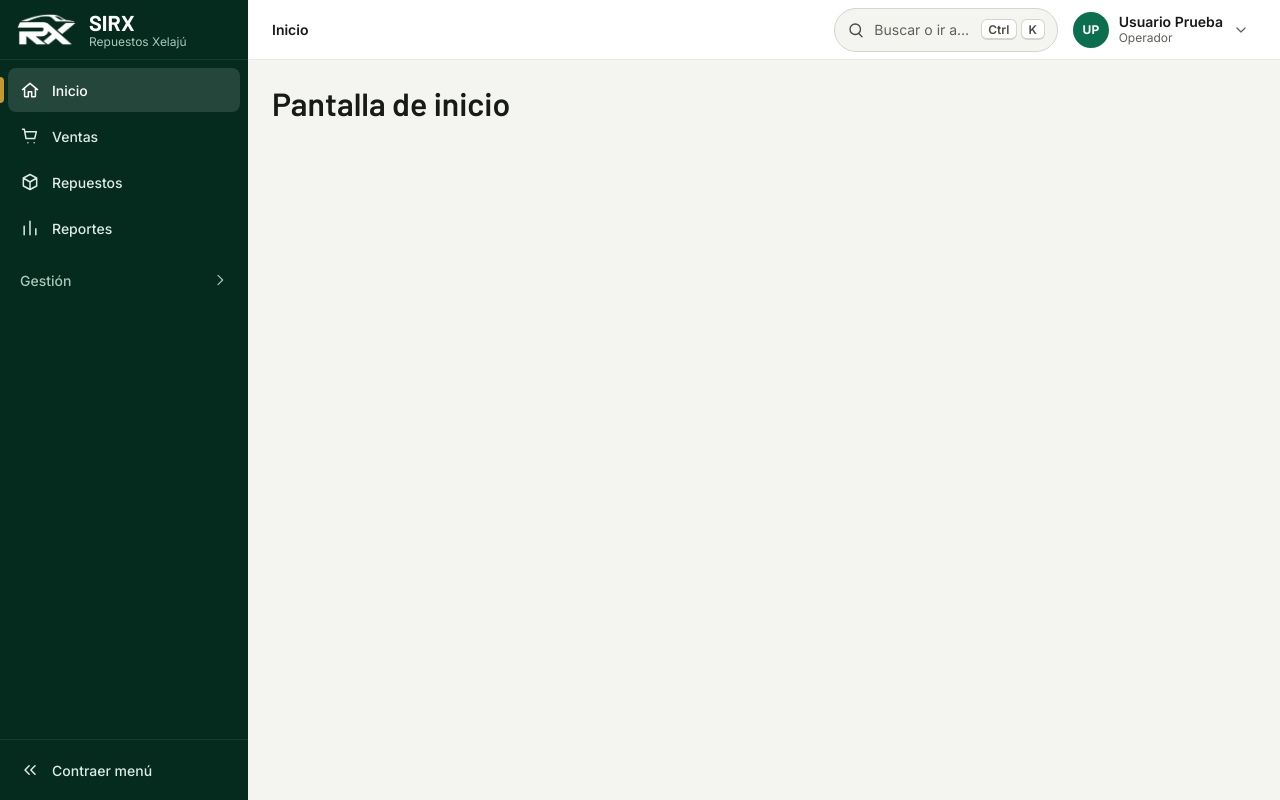
Test: AppLayout › la paleta encuentra repuestos por SKU o nombre
This screenshot has width=1280, height=800.
Type keys "{Control>}k{/Control}"
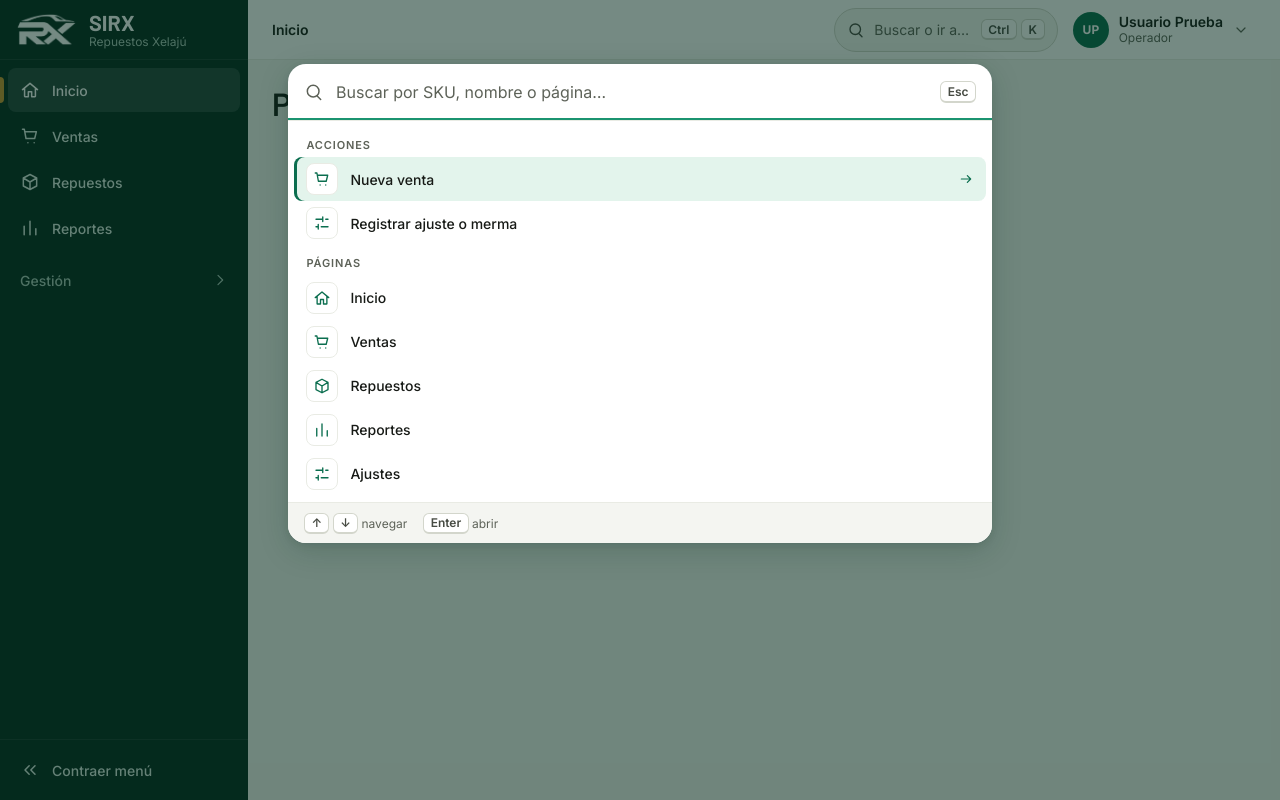
In the dropdown: x=632, y=92 [336,64,928,120], type "fre"
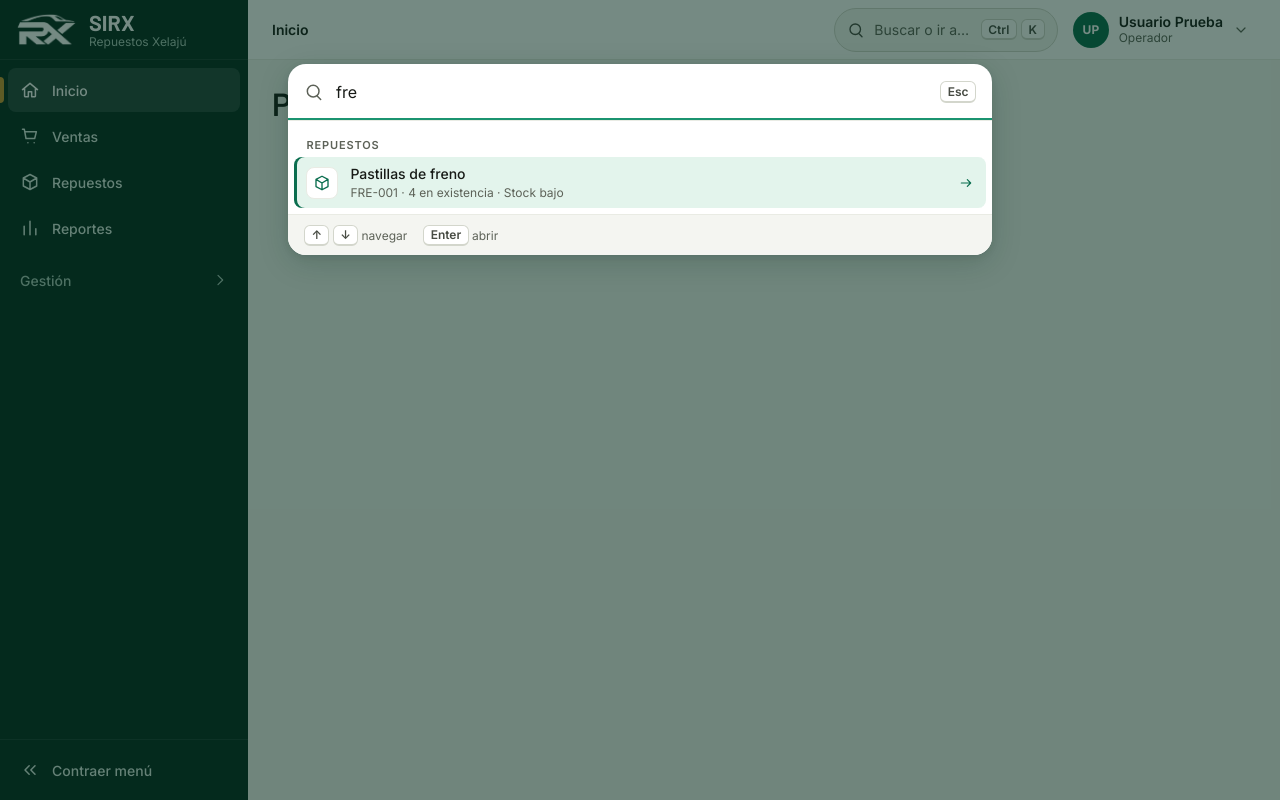
Check: the option "Pastillas de freno FRE-001 · 4 en existencia · Stock bajo" is shown, box [294,158,986,208]
